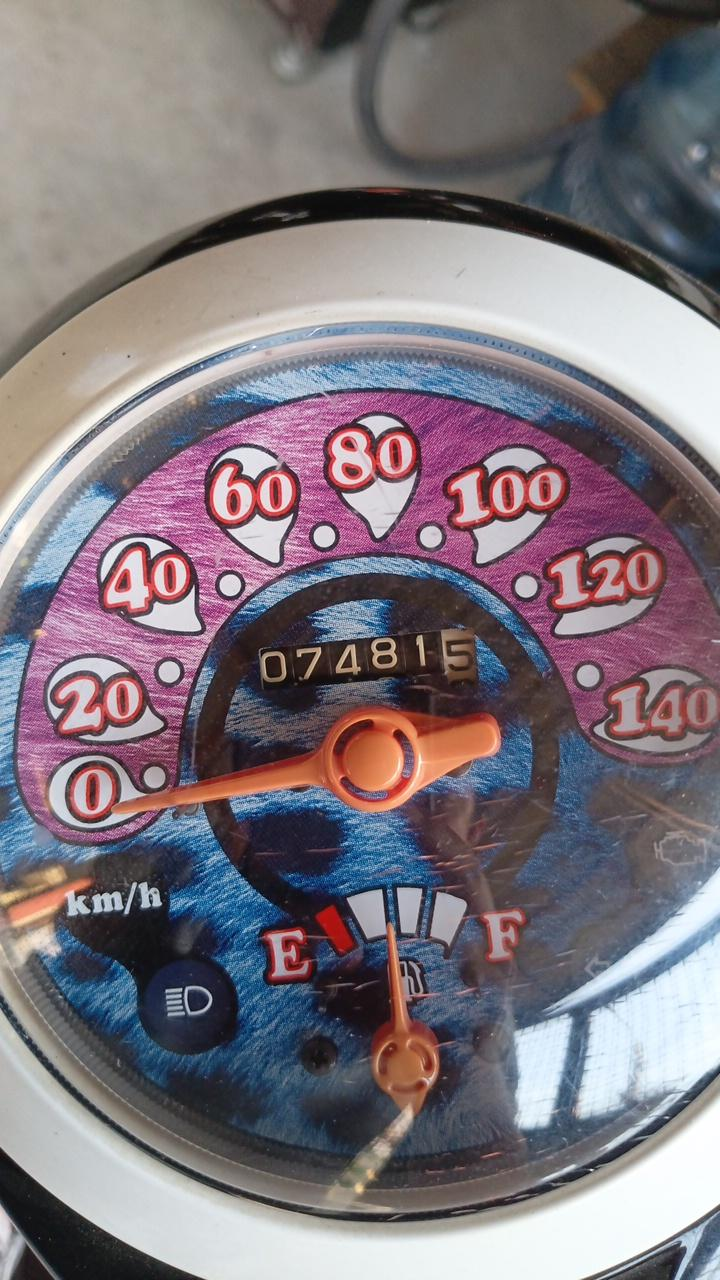0: (259, 650, 287, 684)
1: (414, 634, 428, 669)
4: (333, 642, 363, 677)
5: (444, 636, 476, 673)
7: (295, 646, 323, 682)
8: (369, 636, 399, 671)
odometer: (256, 624, 482, 695)
